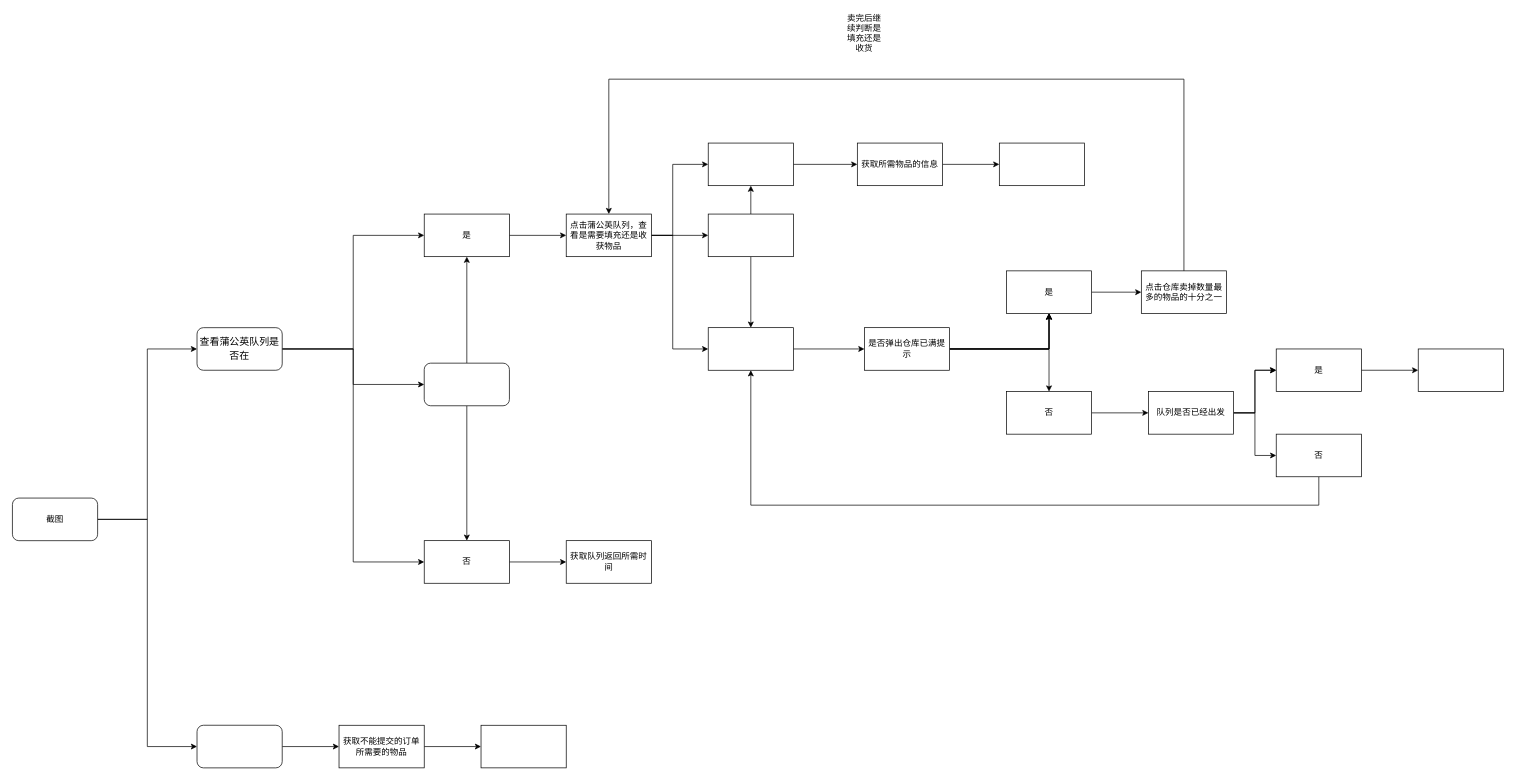
Image size: 1516x780. Some labels were removed from this diagram. Here are the shapes that lost their labels. From the top down, the box of each, then its label:
(708, 142, 793, 186): 填充
(999, 142, 1085, 186): 可以直接填充就直接填充，不可以存储需要填充的物品信息
(708, 213, 793, 257): 填充又收货(先执行填充的流程，再执行收货的流程)
(708, 327, 793, 370): 收获
(424, 362, 509, 406): 出发了，但没完全出发
(1418, 348, 1503, 392): 存储返回所需时间
(196, 725, 282, 768): 点击订单
(480, 725, 566, 768): 提交可以提交的物品
